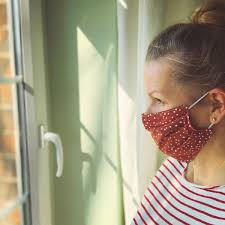mask: (138, 16, 225, 163)
